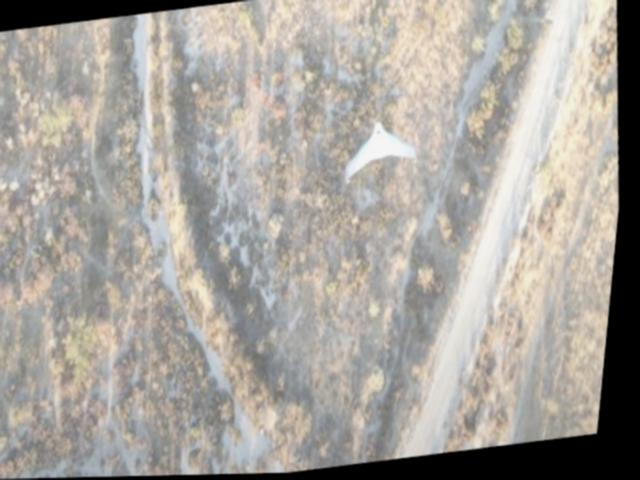iha: (341, 115, 430, 185)
